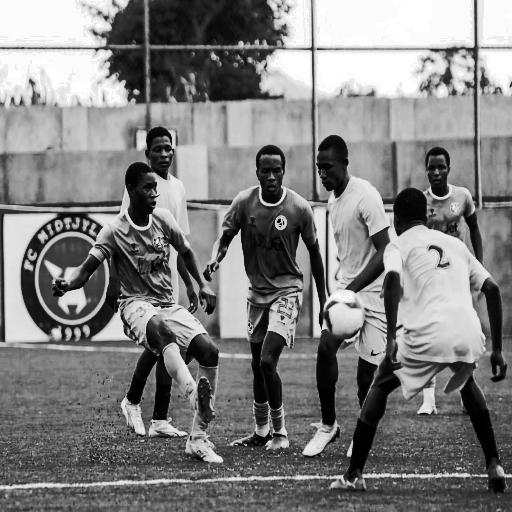ball: (319, 284, 368, 352)
team1: (388, 188, 499, 495), (313, 126, 389, 408), (138, 122, 194, 204)
team2: (94, 157, 226, 467), (224, 142, 307, 456), (407, 136, 480, 265)
